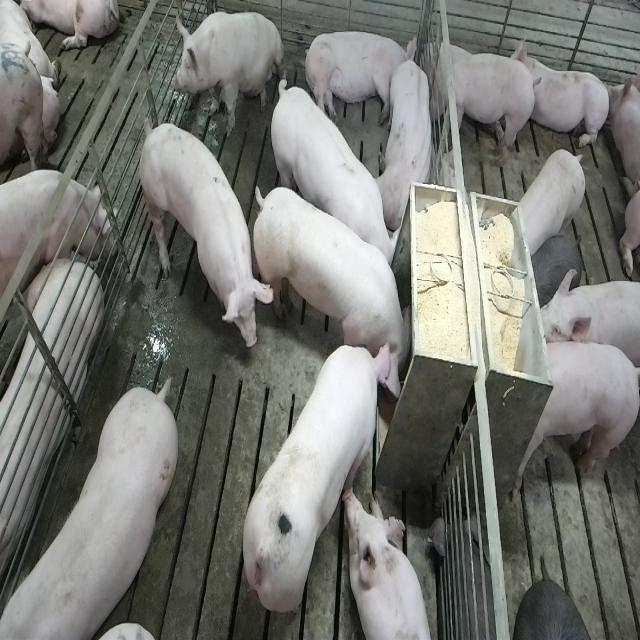Feeding: (241, 338, 402, 619), (255, 174, 421, 385)
Lateral_lying: (0, 252, 101, 610), (302, 28, 418, 128)
Sitting: (172, 8, 285, 136)
Standing: (0, 380, 175, 640), (136, 116, 269, 348), (265, 75, 398, 284), (514, 340, 638, 496), (420, 35, 539, 176), (0, 170, 111, 303), (531, 269, 637, 376), (515, 149, 588, 260)
Sternal_lying: (346, 488, 435, 640), (520, 33, 611, 152), (377, 55, 437, 232)
